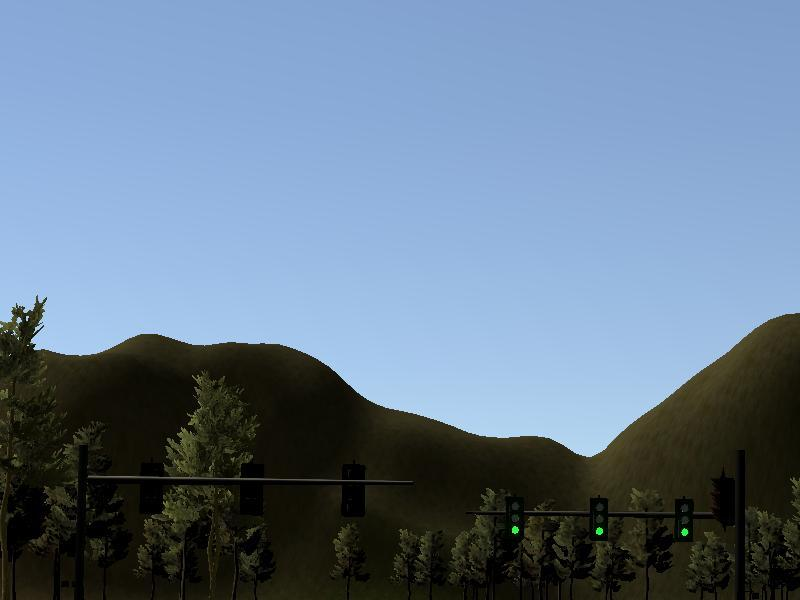Green: (675, 499, 694, 542), (589, 497, 608, 540), (505, 496, 524, 539)
